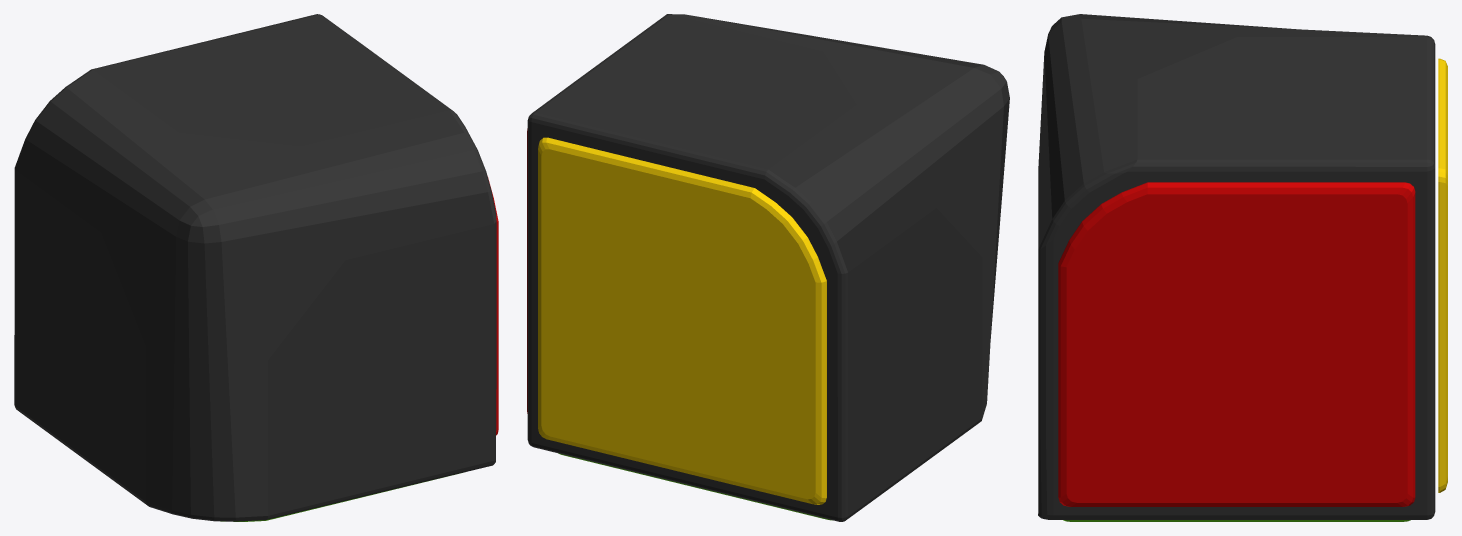
The picture shows the model from 3 angles, left to right: view 1: azimuth 30°, elevation 25°; view 2: azimuth 150°, elevation 25°; view 3: azimuth 270°, elevation 25°; orthographic projection. The views are drawn at different scales.
Visible parts, largest first — view 1: Cube.016, Cube.033; view 2: Cube.016, Cube.078; view 3: Cube.033, Cube.016, Cube.078, Cube.048.
Part boxes in pixels (x1=…): Cube.016: x1=14, y1=14, x2=496, y2=521; Cube.033: x1=488, y1=177, x2=498, y2=435; Cube.016: x1=527, y1=14, x2=1009, y2=521; Cube.078: x1=538, y1=137, x2=826, y2=504; Cube.033: x1=1058, y1=182, x2=1415, y2=506; Cube.016: x1=1038, y1=14, x2=1435, y2=519; Cube.078: x1=1438, y1=58, x2=1447, y2=492; Cube.048: x1=1063, y1=520, x2=1410, y2=521.
Size of the model in its own units: 206 by 206 by 207.
